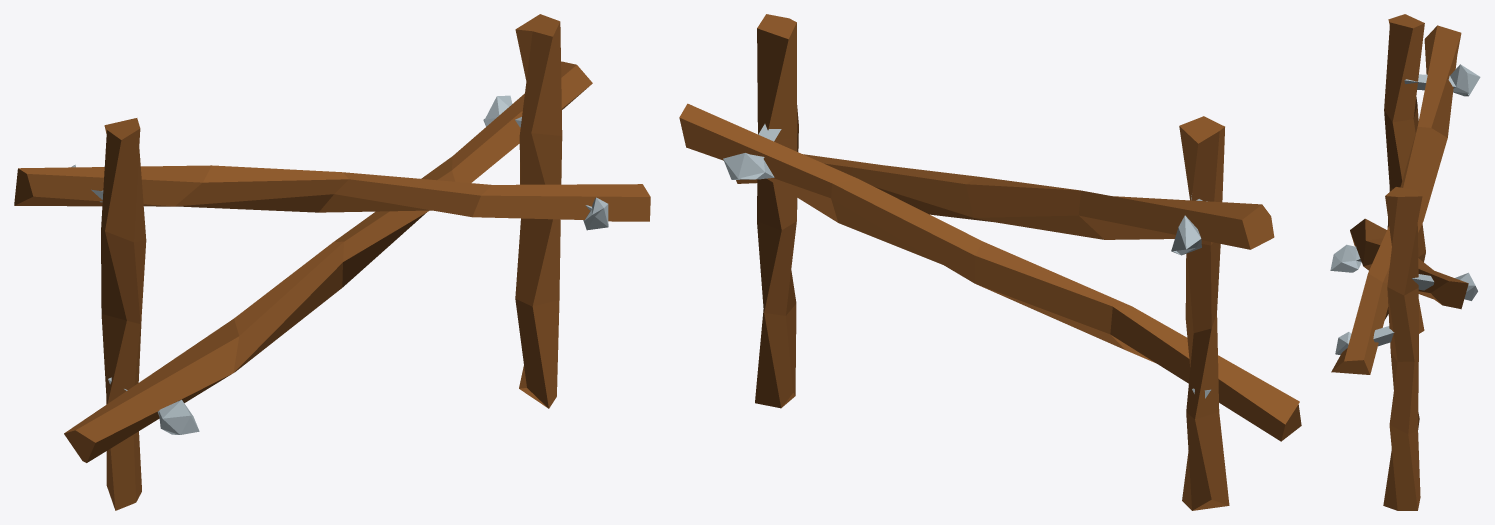
File: fence.fbx
The picture shows the model from 3 angles, left to right: view 1: azimuth 30°, elevation 25°; view 2: azimuth 150°, elevation 25°; view 3: azimuth 270°, elevation 25°; orthographic projection. The views are drawn at different scales.
Parts seen in each view (by area): view 1: Cylinder; view 2: Cylinder; view 3: Cylinder.
Part boxes in pixels (x1,y1,x2,y2): Cylinder: (14, 14, 650, 510); Cylinder: (679, 14, 1301, 510); Cylinder: (1330, 14, 1480, 510).
Size of the model in its own units: 238 by 146 by 62.77.
